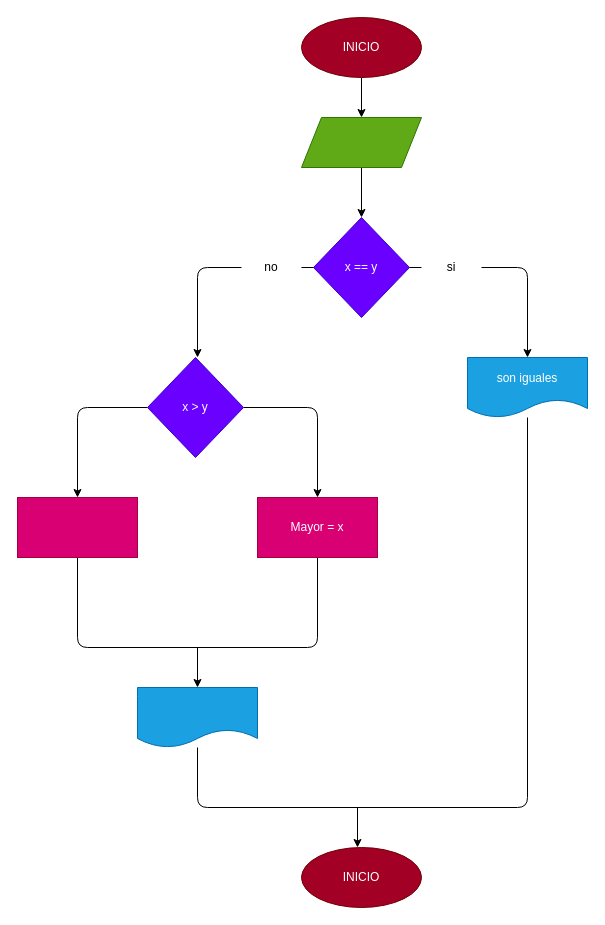
This 605x925 diagram has some shape labels left out. Here are the shapes that lost their labels. From the top down, the centre of each, then its label:
[361,142]: x.y
[77,527]: Mayor = y
[197,717]: Mayor
